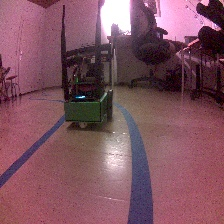rob: (62, 61, 113, 129)
